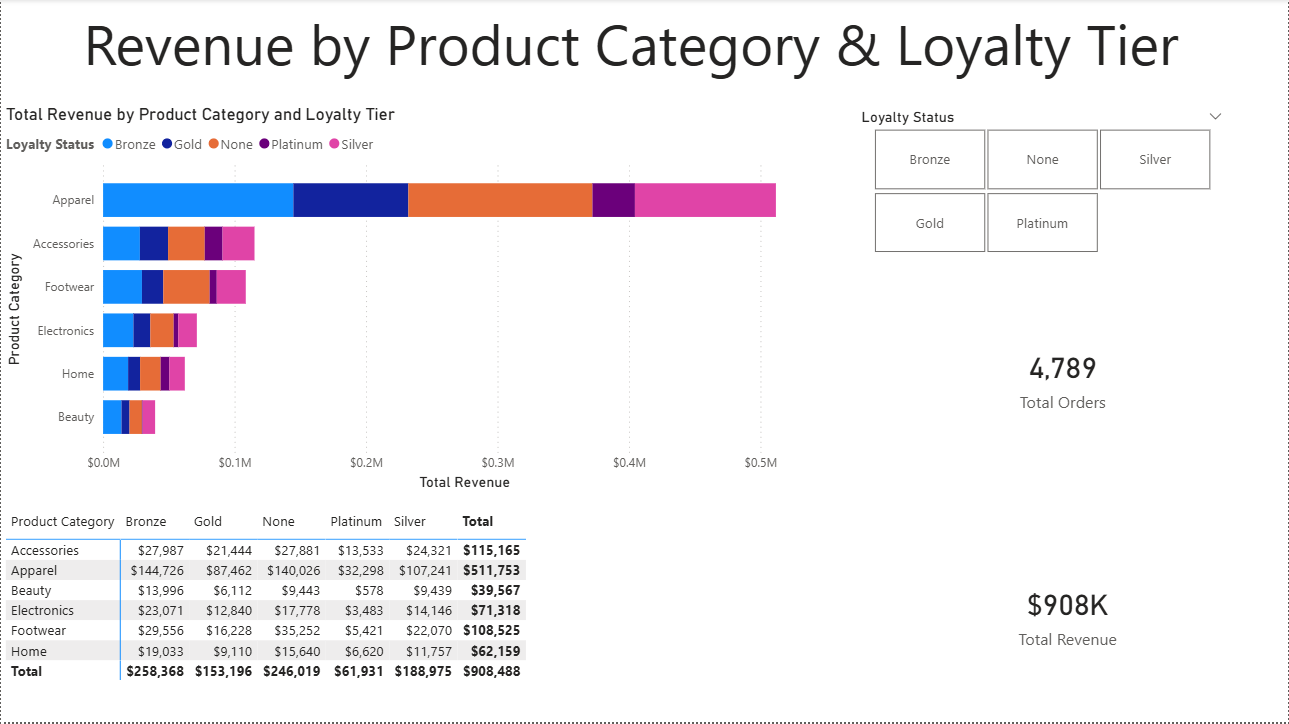

Layout of this report page (visuals, bound fields, positions):
{"tool":"powerbi","page":{"name":"Revenue by Product Category & Loyalty Tier","canvas":[1280,720],"ordinal":1},"visuals":[{"type":"pivotTable","fields":{"Rows":["products.product_category"],"Columns":["customers.loyalty_status"],"Values":["Measures (3).Total Revenue"]},"box":[0,503.8,843.4,216.4],"z":0},{"type":"slicer","fields":{"Values":["customers.loyalty_status"]},"box":[843.4,104.5,384.4,154.3],"z":1000},{"type":"card","fields":{"Values":["Measures (3).Total Revenue"]},"box":[843.4,503.8,436.6,216.4],"z":2000},{"type":"card","fields":{"Values":["Measures (3).Total Orders"]},"box":[843,259,427,235],"z":3000},{"type":"barChart","title":"Total Revenue by Product Category and Loyalty Tier","fields":{"Category":["products.product_category"],"Y":["Measures (3).Total Revenue"],"Series":["customers.loyalty_status"]},"box":[0,104.5,843.4,389.4],"z":4000},{"type":"textbox","box":[77.1,0,1108.4,90.8],"z":8001}]}

Visuals, with their boxes in screenshot pixels (x1, y1, x2, y2), scaled from the page's 1280x720 canvas onto the 1289x724 screenshot:
pivotTable - products.product_category x customers.loyalty_status: (left=0, top=507, right=849, bottom=723)
slicer - customers.loyalty_status: (left=849, top=105, right=1236, bottom=260)
card - Measures (3).Total Revenue: (left=849, top=507, right=1288, bottom=723)
card - Measures (3).Total Orders: (left=849, top=260, right=1279, bottom=497)
"Total Revenue by Product Category and Loyalty Tier" barChart: (left=0, top=105, right=849, bottom=497)
textbox: (left=78, top=0, right=1194, bottom=91)
